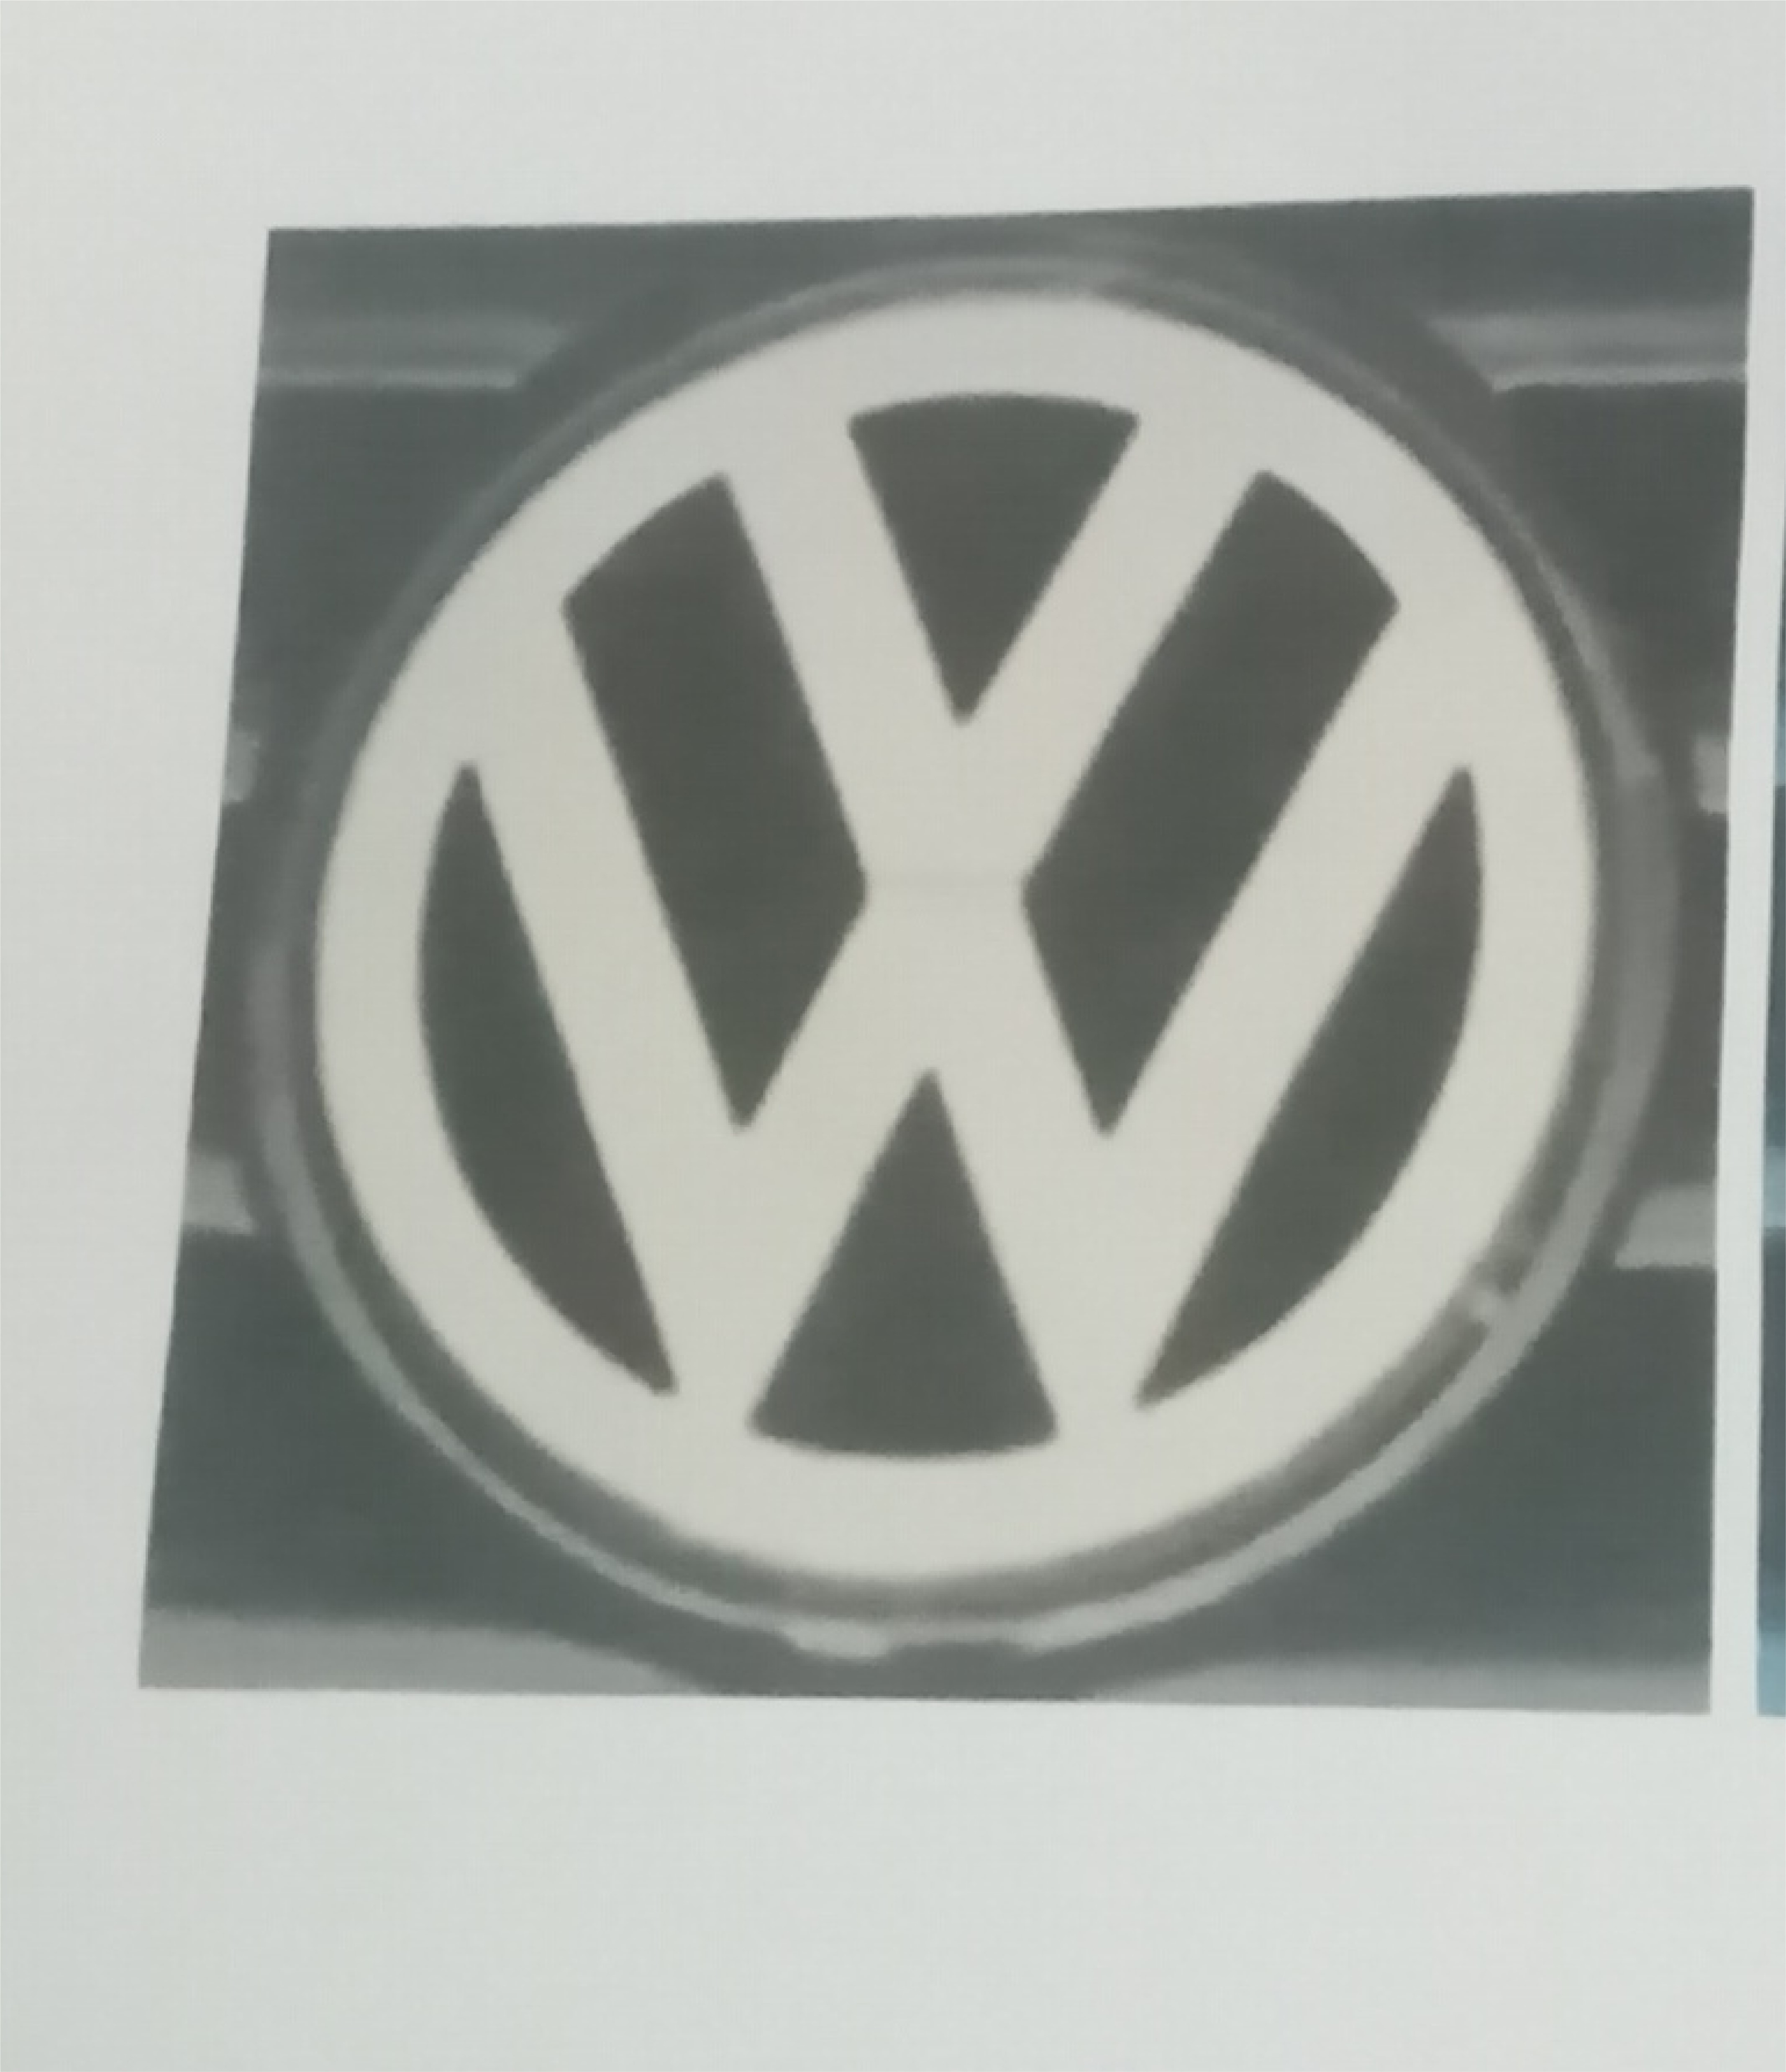Volkswagen: (271, 247, 1670, 1663)
